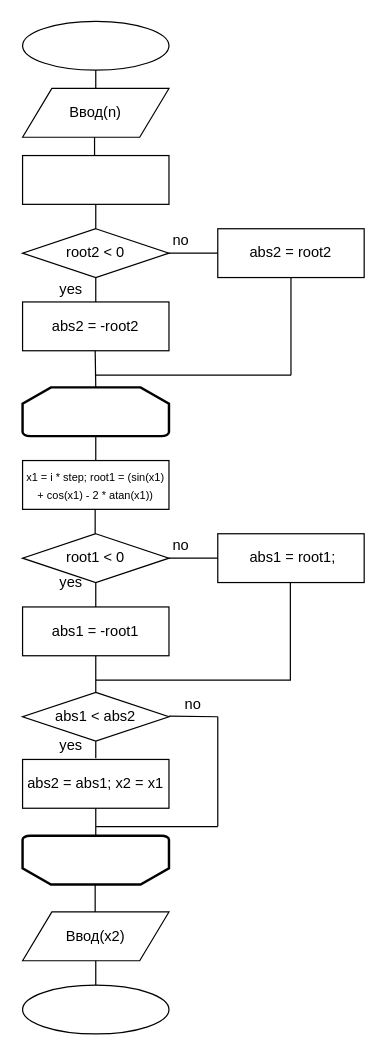
Some shapes in this 386 by 1055 pixel diagram are drawn without their labels. Each missing label, with the centre of its shape:
"Begin" belongs at (x=95, y=45).
"End" belongs at (x=95, y=1009).
"for (int i = 0; i <= n; i++)" belongs at (x=95, y=411).
"for (int i = 0;i <= n;i++)" belongs at (x=95, y=859).
"step = 1 / n; root2 = (sin(0) + cos(0) - 2 * atan(0))+100;" belongs at (x=95, y=179).
